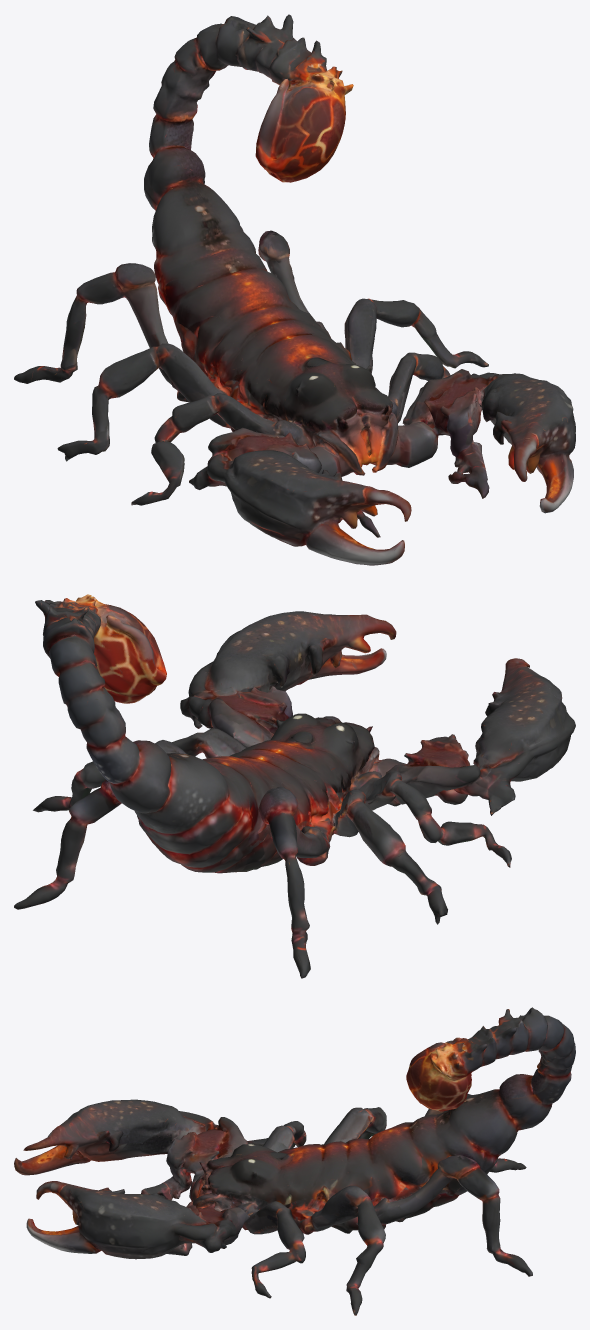
The model's file is Magma_Scorpion.glb.
3 renders of one model, top to bottom at view 1: azimuth 30°, elevation 25°; view 2: azimuth 150°, elevation 25°; view 3: azimuth 270°, elevation 25°, orthographic. The views are drawn at different scales.
Parts seen in each view (by area): view 1: Mesh_0; view 2: Mesh_0; view 3: Mesh_0.
Part boxes in pixels (<box>): Mesh_0: <box>14,14,575,565</box>; Mesh_0: <box>14,594,575,978</box>; Mesh_0: <box>14,1007,575,1315</box>.
Bounding box in the file's own units: 2.83 × 2 × 4.04.
Materials: 1 (1 with a texture image).
